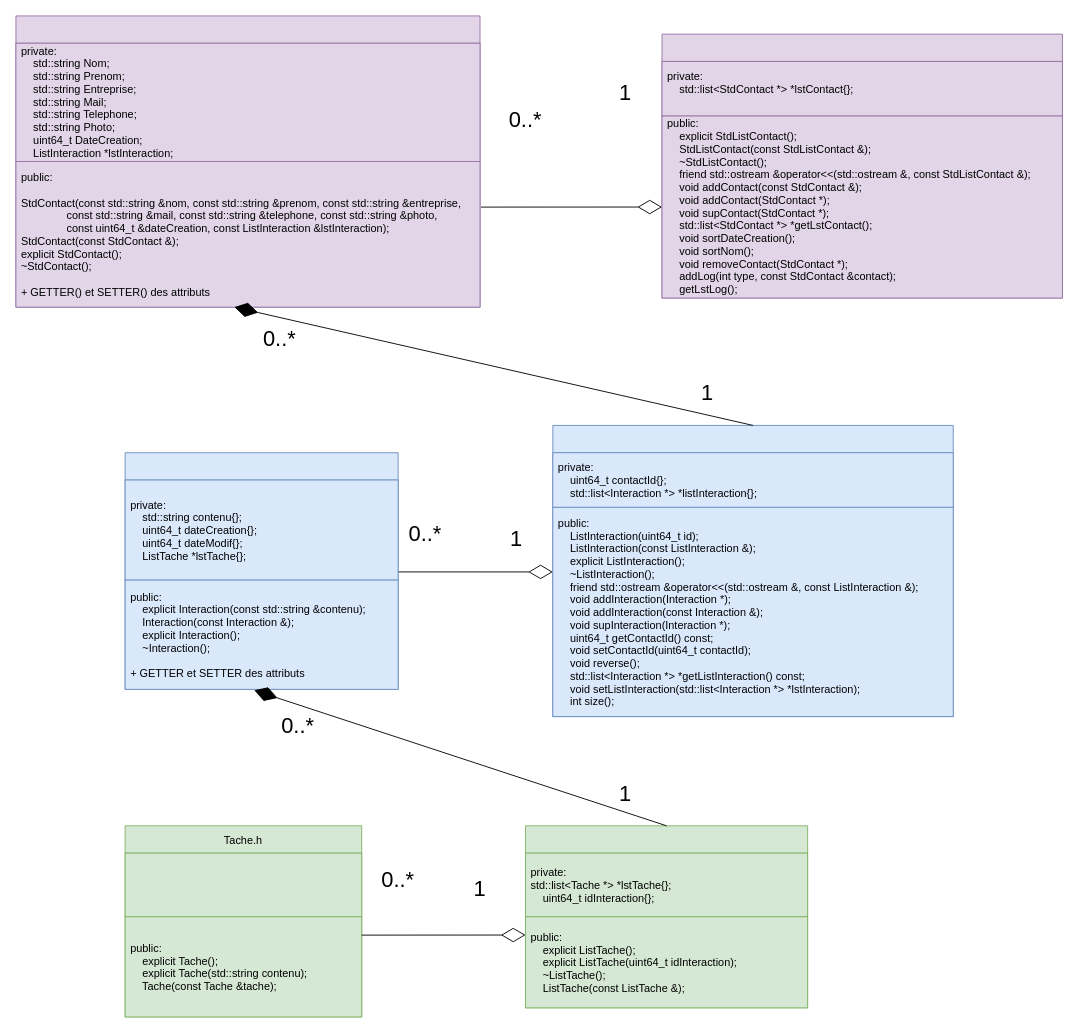
This 1078x1033 diagram has some shape labels left out. The box of each missing label's shape, as (x1, y1, x2, y2) in pixels:
Interaction.h: (124, 452, 398, 689)
ListInteraction.h: (552, 425, 953, 717)
ListTache.h: (525, 825, 808, 1008)
private: std::string contenu{}; uint64_t date{};: (124, 852, 362, 917)
StdContact.h: (15, 15, 480, 307)
StdListContact.h: (661, 33, 1062, 298)
